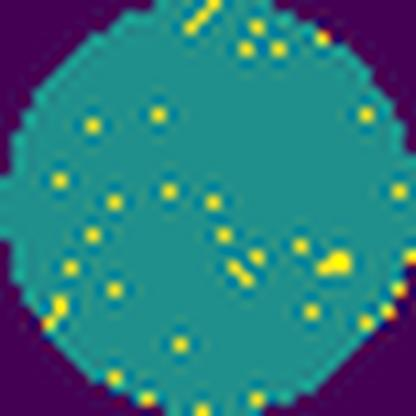Loc: (316, 247, 353, 276)
